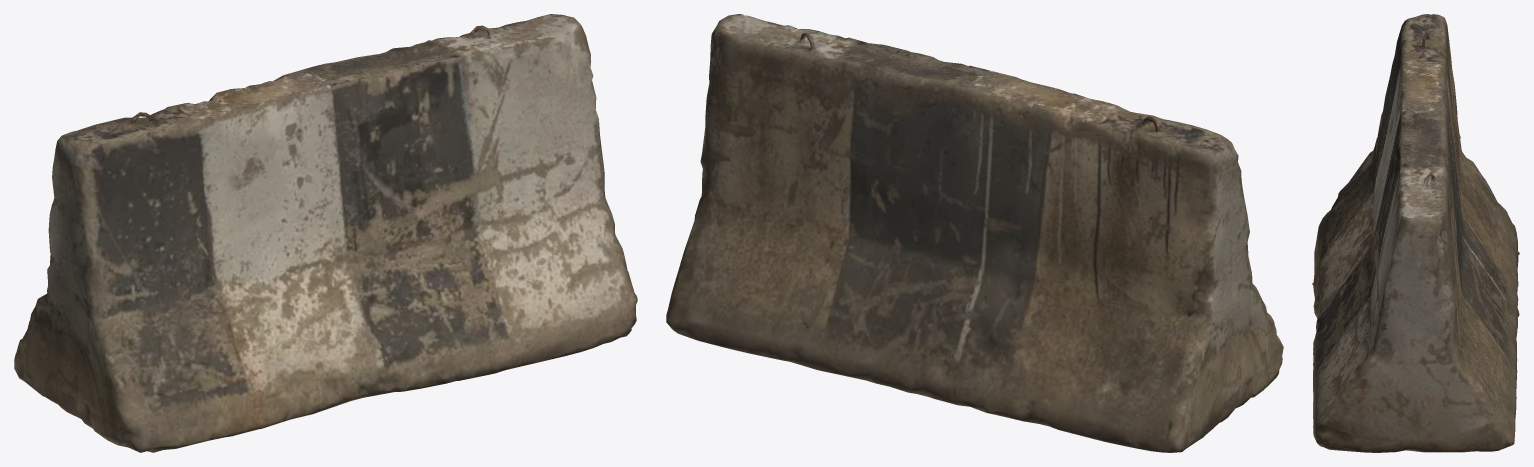
Rendered from concrete_road_barrier.glb.
3 renders of one model, left to right at view 1: azimuth 30°, elevation 25°; view 2: azimuth 150°, elevation 25°; view 3: azimuth 270°, elevation 25°, orthographic. The views are drawn at different scales.
Visible parts, largest first — view 1: concrete_road_barrier; view 2: concrete_road_barrier; view 3: concrete_road_barrier.
Boxes of the visible parts, bbox=[...] form: concrete_road_barrier: bbox=[14, 14, 637, 452]; concrete_road_barrier: bbox=[666, 14, 1283, 452]; concrete_road_barrier: bbox=[1312, 14, 1519, 452].
Size of the model in its own units: 1.54 by 0.8304 by 0.6387.
1 material, 1 textured.
